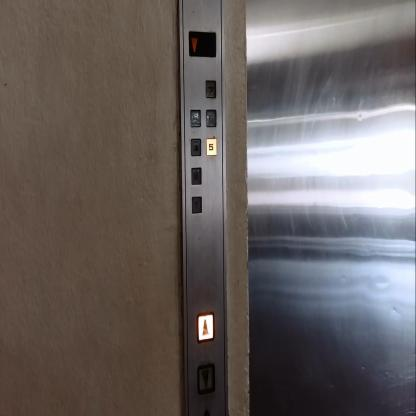1: (191, 195, 202, 214)
2: (190, 165, 202, 186)
5: (206, 136, 217, 157)
6: (205, 108, 216, 127)
7: (204, 78, 216, 98)
blur: (189, 108, 201, 127), (190, 137, 201, 157)
down: (197, 362, 215, 394)
led: (188, 30, 216, 57)
up: (196, 311, 215, 344)
